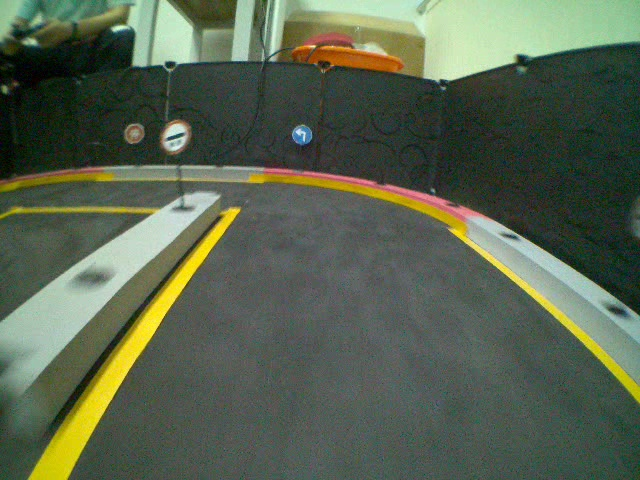Check: (160, 118, 191, 152)
Stop: (123, 123, 144, 145)
turn: (290, 123, 314, 146)
